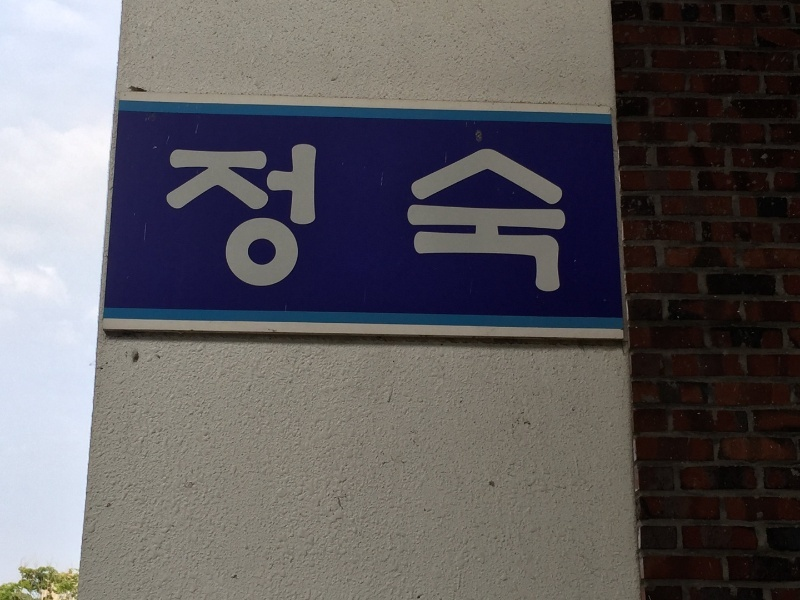text: (161, 136, 176, 297), (177, 136, 192, 297), (193, 136, 208, 297), (209, 136, 224, 297), (225, 136, 240, 297), (241, 136, 256, 297), (257, 136, 272, 297), (273, 136, 288, 297), (289, 136, 304, 297), (305, 136, 320, 297), (321, 136, 336, 297), (337, 136, 352, 297), (353, 136, 368, 297), (369, 136, 384, 297), (385, 136, 400, 297), (401, 136, 416, 297), (417, 136, 432, 297), (433, 136, 448, 297), (449, 136, 464, 297), (465, 136, 480, 297), (481, 136, 496, 297), (497, 136, 512, 297), (513, 136, 528, 297), (529, 136, 544, 297), (545, 136, 560, 297), (148, 136, 160, 297), (561, 136, 573, 297)
